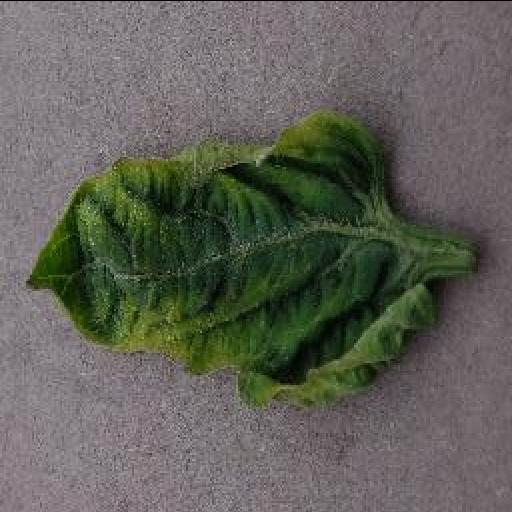disease_tomato: (23, 110, 445, 408)
